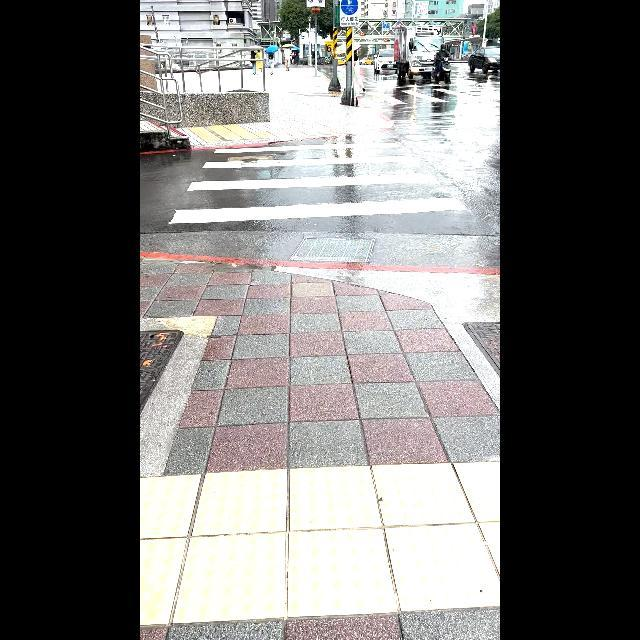sidewalk: (172, 140, 471, 224)
